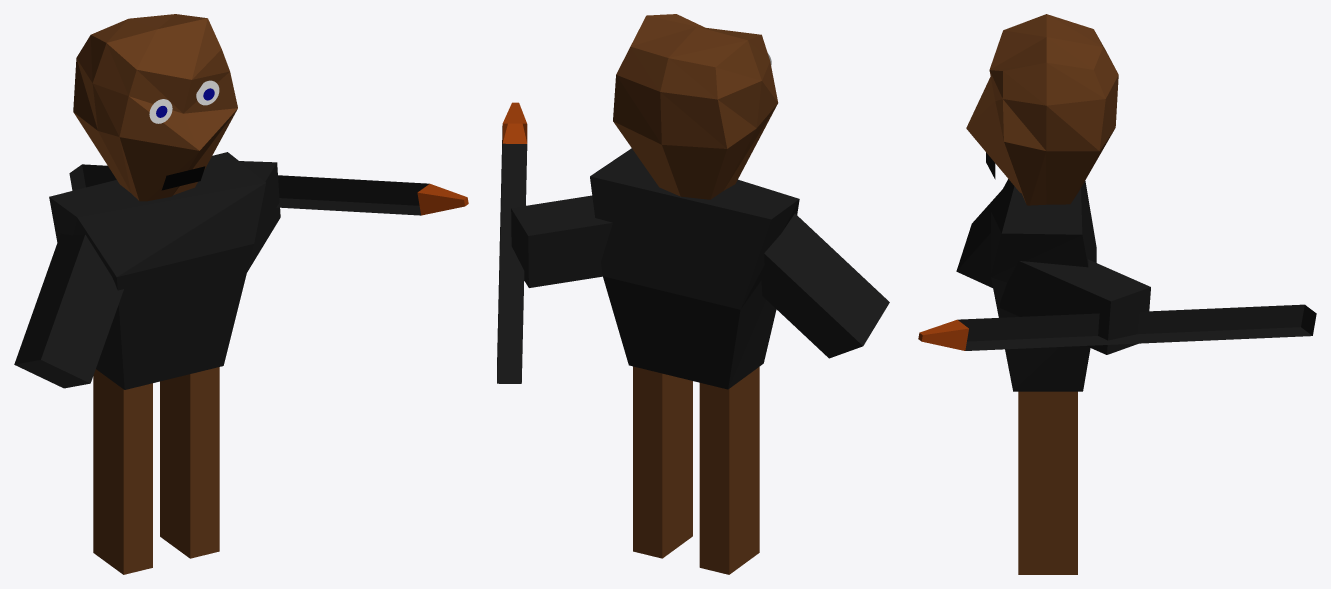
File: spearman1f.obj
The picture shows the model from 3 angles, left to right: view 1: azimuth 30°, elevation 25°; view 2: azimuth 150°, elevation 25°; view 3: azimuth 270°, elevation 25°; orthographic projection.
Visible parts, largest first — view 1: Cube.001, Cube, Cube.004, Cube.005, Cube.003, Cube.007, Cube.002; view 2: Cube.001, Cube, Cube.004, Cube.005, Cube.003, Cube.002, Cube.007; view 3: Cube, Cube.007, Cube.001, Cube.005, Cube.002, Cube.003.
Boxes of the visible parts, x1,y1,x2,y2 form: Cube.001: (49,152,265,389); Cube: (73,14,237,201); Cube.004: (93,369,152,574); Cube.005: (160,367,219,558); Cube.003: (14,233,123,388); Cube.007: (69,164,468,215); Cube.002: (239,161,280,272); Cube.001: (590,148,799,389); Cube: (613,14,778,199); Cube.004: (699,367,759,574); Cube.005: (633,366,692,558); Cube.003: (761,213,889,358); Cube.002: (511,195,612,287); Cube.007: (497,102,527,383); Cube: (966,14,1118,205); Cube.007: (918,304,1316,350); Cube.001: (991,179,1096,391); Cube.005: (1018,391,1077,574); Cube.002: (999,259,1150,354); Cube.003: (956,189,1002,287).
Size of the model in its own units: 4.72 by 5.86 by 4.11.
